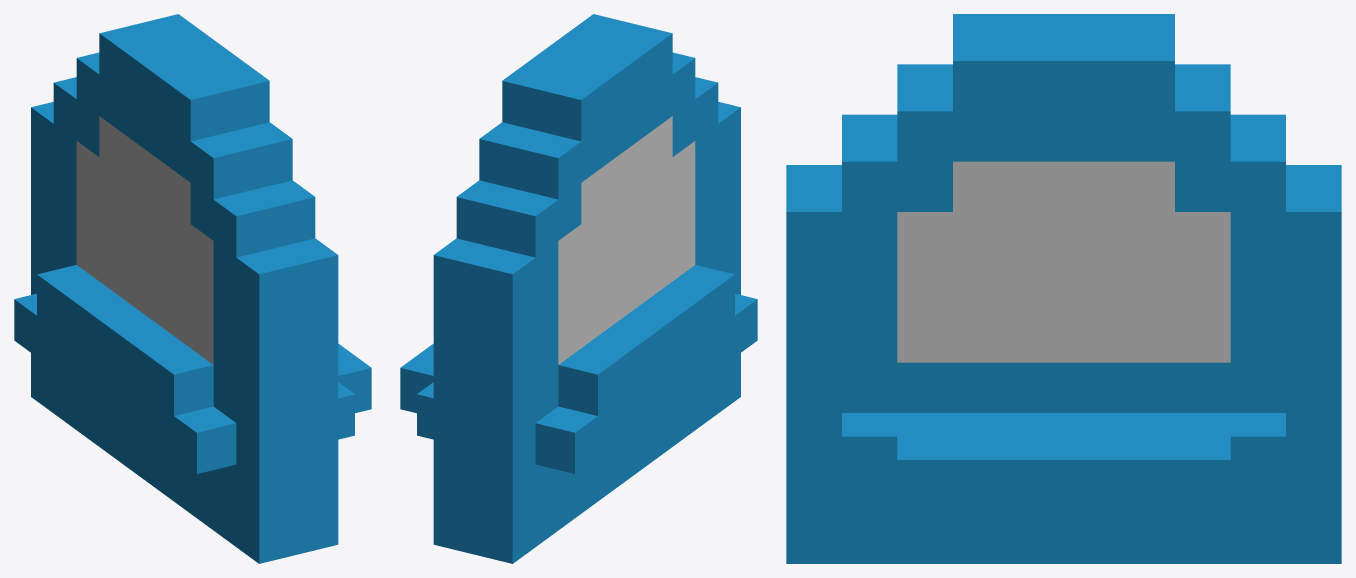
File: Block.fbx
The picture shows the model from 3 angles, left to right: view 1: azimuth 30°, elevation 25°; view 2: azimuth 150°, elevation 25°; view 3: azimuth 270°, elevation 25°; orthographic projection. The views are drawn at different scales.
Visible parts, largest first — view 1: Matrix_3; view 2: Matrix_3; view 3: Matrix_3.
Part boxes in pixels (x1,y1,x2,y2): Matrix_3: [14, 14, 371, 563]; Matrix_3: [400, 14, 757, 563]; Matrix_3: [786, 14, 1341, 563].
Size of the model in its own units: 5 by 10 by 10.
